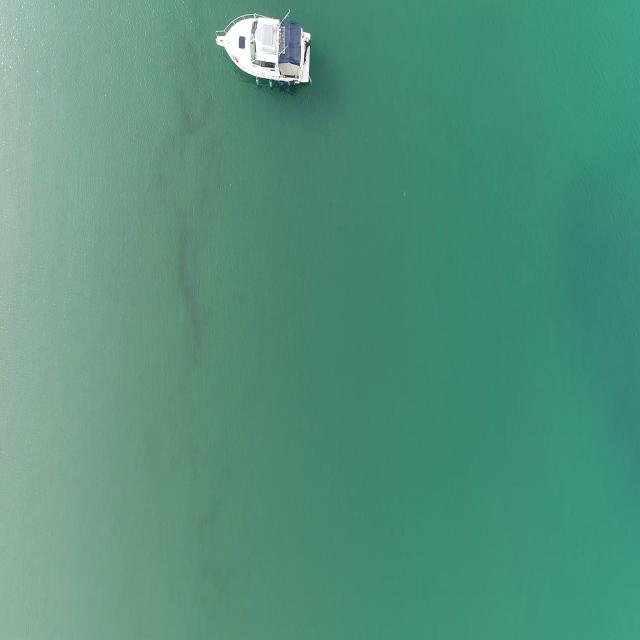boat: (214, 14, 313, 92)
